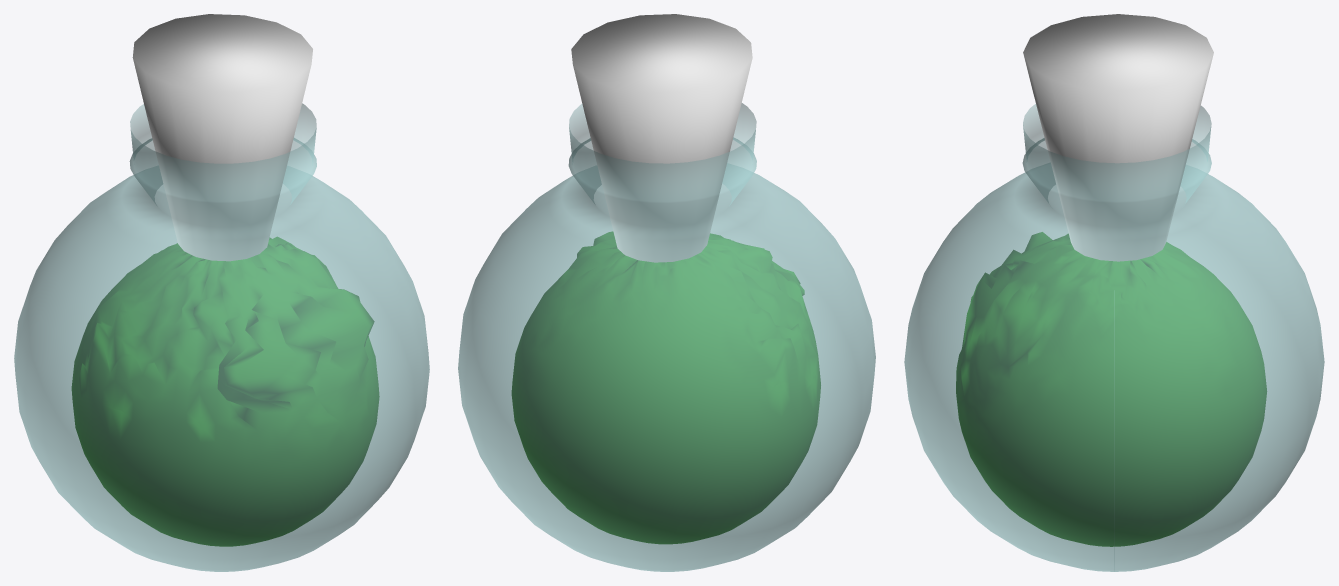
Rendered from potiunesfera.fbx.
3 renders of one model, left to right at view 1: azimuth 30°, elevation 25°; view 2: azimuth 150°, elevation 25°; view 3: azimuth 270°, elevation 25°, orthographic.
Parts seen in each view (by area): view 1: Sphere, Sphere.001, CylinderSphere; view 2: Sphere, Sphere.001, CylinderSphere; view 3: Sphere, Sphere.001, CylinderSphere.
Boxes of the visible parts, x1,y1,x2,y2 form: Sphere: [14, 103, 429, 571]; Sphere.001: [71, 236, 379, 546]; CylinderSphere: [132, 14, 312, 261]; Sphere: [458, 103, 875, 571]; Sphere.001: [511, 231, 820, 544]; CylinderSphere: [571, 14, 752, 262]; Sphere: [904, 104, 1324, 571]; Sphere.001: [956, 232, 1266, 546]; CylinderSphere: [1023, 14, 1213, 261].
Size of the model in its own units: 455 by 599 by 455.
